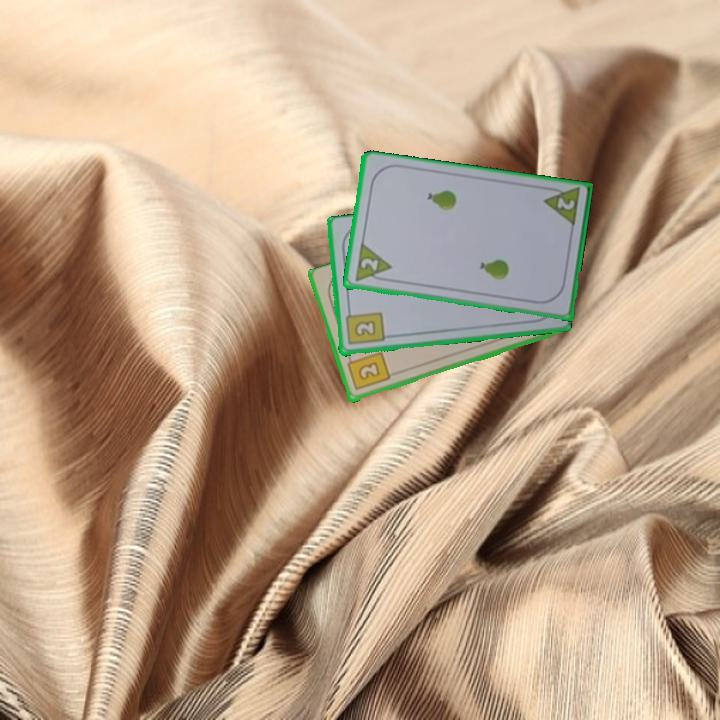2b: (344, 348, 393, 393), (342, 306, 387, 348)
2p: (540, 183, 583, 230), (351, 241, 394, 285)
